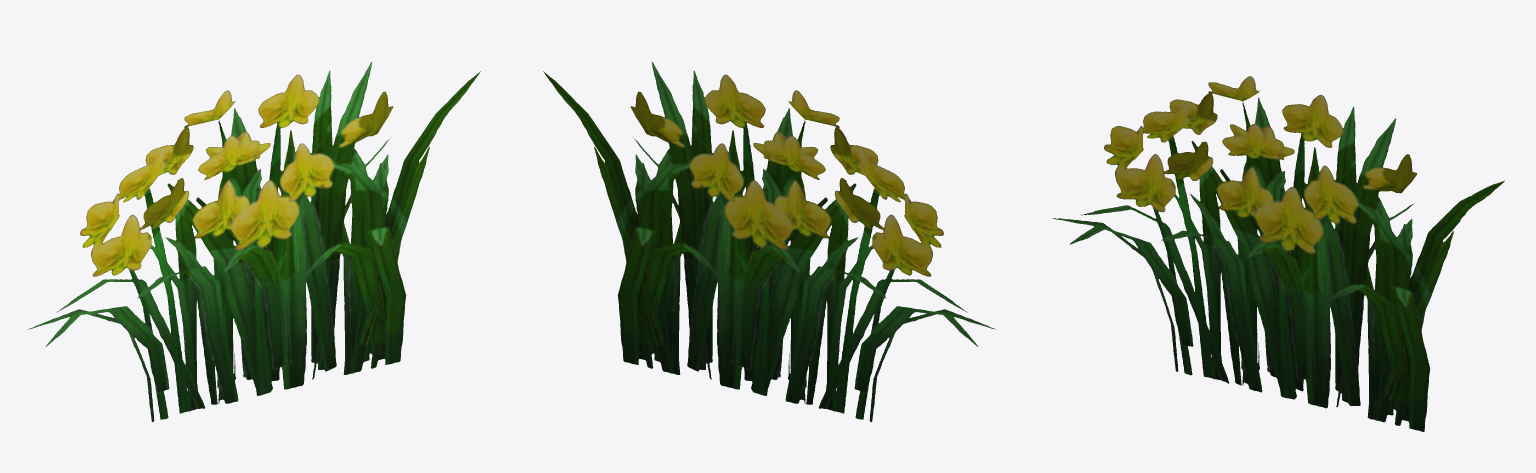
3 renders of one model, left to right at view 1: azimuth 30°, elevation 25°; view 2: azimuth 150°, elevation 25°; view 3: azimuth 330°, elevation 25°, orthographic.
Parts seen in each view (by area): view 1: 草丛009; view 2: 草丛009; view 3: 草丛009.
Boxes of the visible parts, <box> form: 草丛009: <box>28,62,480,421</box>; 草丛009: <box>543,62,995,421</box>; 草丛009: <box>1052,76,1504,431</box>.
Bounding box in the file's own units: 199 × 129 × 1.27e-05.
Materials: 1 (1 with a texture image).
